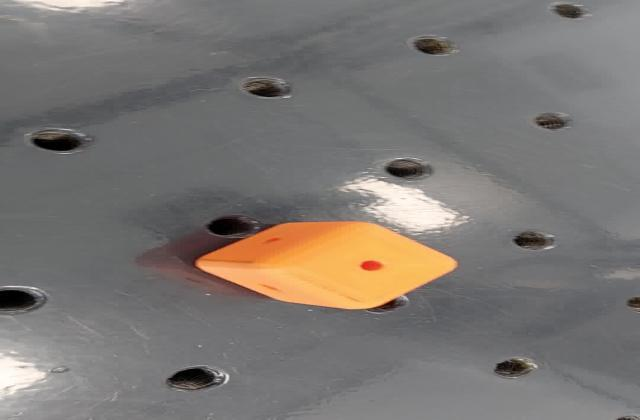cube: (184, 218, 464, 311)
